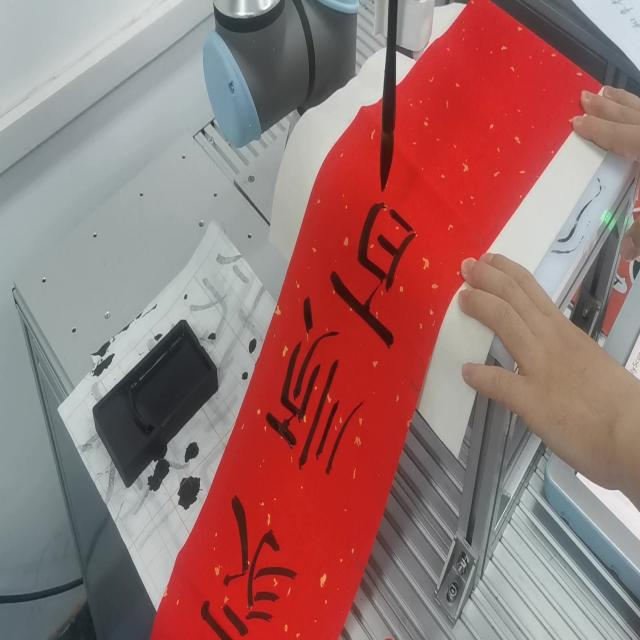head: (378, 130, 396, 194)
inkstone: (93, 314, 219, 486)
